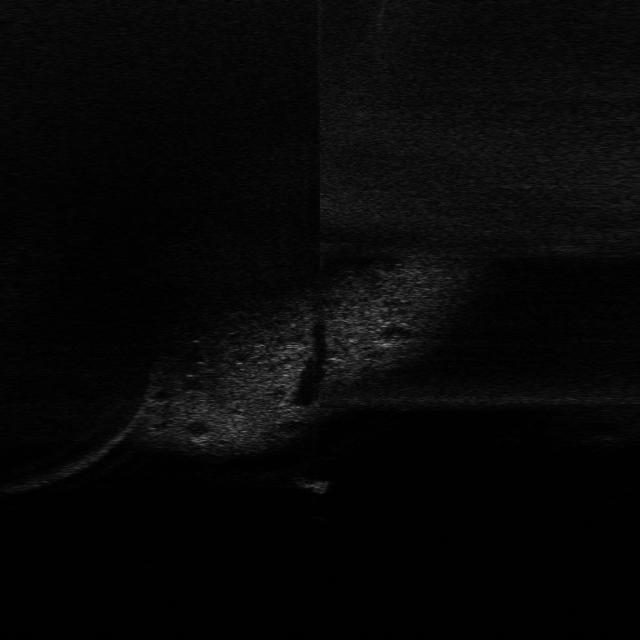cube: (289, 474, 332, 497)
